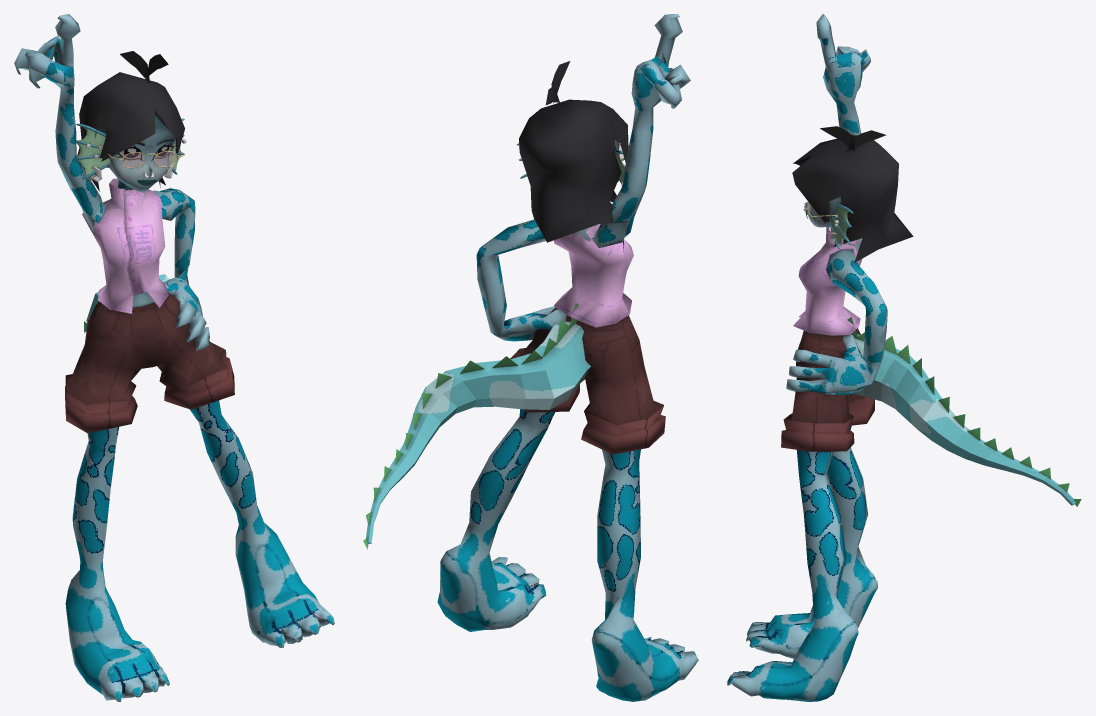
Rendered from Shelby-v2.glb.
3 renders of one model, left to right at view 1: azimuth 30°, elevation 25°; view 2: azimuth 150°, elevation 25°; view 3: azimuth 270°, elevation 25°, orthographic. The views are drawn at different scales.
Visible parts, largest first — view 1: 00-Legs__exp, 00-Shorts__exp, 00-Skin__exp, 01-Shirt__exp, 00-Hair__exp, 00-Finn__exp, Glasses_Lenses__exp; view 2: 00-Legs__exp, 00-Hair__exp, 03-Reptile_Tail_v2_Frozen__exp, 00-Skin__exp, 00-Shorts__exp, 01-Shirt__exp; view 3: 00-Legs__exp, 00-Skin__exp, 00-Hair__exp, 03-Reptile_Tail_v2_Frozen__exp, 00-Shorts__exp, 01-Shirt__exp, 00-Finn__exp.
Part boxes in pixels (bbox=[...]): 00-Legs__exp: bbox=[65, 400, 334, 701]; 00-Shorts__exp: bbox=[65, 292, 234, 433]; 00-Skin__exp: bbox=[14, 14, 209, 350]; 01-Shirt__exp: bbox=[82, 178, 168, 313]; 00-Hair__exp: bbox=[70, 51, 184, 191]; 00-Finn__exp: bbox=[76, 118, 184, 179]; Glasses_Lenses__exp: bbox=[122, 152, 176, 166]; 00-Legs__exp: bbox=[437, 409, 698, 701]; 00-Hair__exp: bbox=[519, 61, 628, 242]; 03-Reptile_Tail_v2_Frozen__exp: bbox=[363, 302, 590, 549]; 00-Skin__exp: bbox=[476, 14, 690, 341]; 00-Shorts__exp: bbox=[510, 307, 665, 454]; 01-Shirt__exp: bbox=[554, 224, 633, 327]; 00-Legs__exp: bbox=[727, 425, 877, 701]; 00-Skin__exp: bbox=[786, 14, 887, 394]; 00-Hair__exp: bbox=[792, 126, 913, 262]; 03-Reptile_Tail_v2_Frozen__exp: bbox=[847, 317, 1081, 506]; 00-Shorts__exp: bbox=[781, 328, 874, 451]; 01-Shirt__exp: bbox=[793, 227, 862, 335]; 00-Finn__exp: bbox=[829, 203, 853, 248].
Size of the model in its own units: 0.823 by 2.04 by 1.06.
2 materials, 2 textured.
